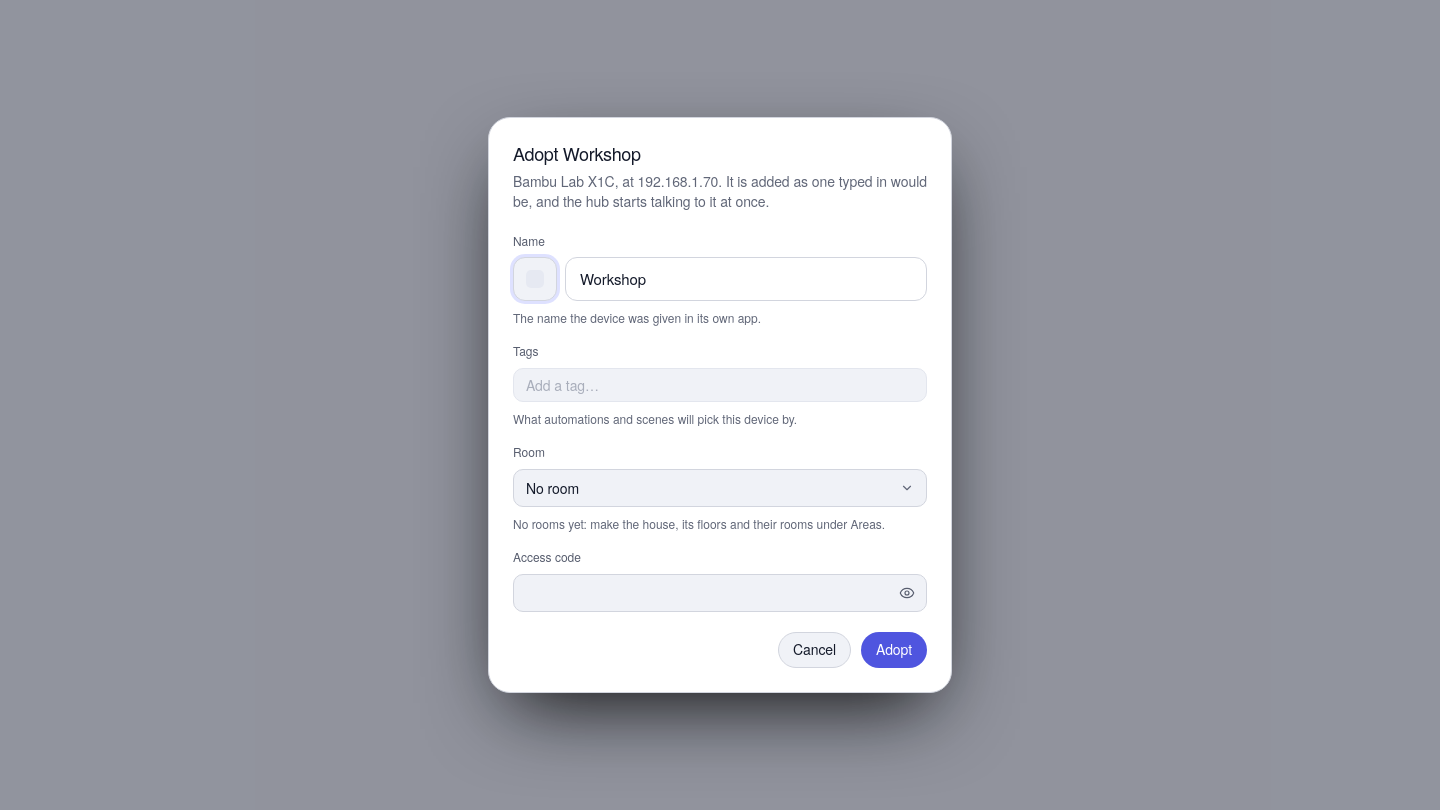
AdoptDialog › shows what the server refused, where the person is
Type "12345678" into the password field labelled "Access code" at (720, 593), box [513,574,927,612]
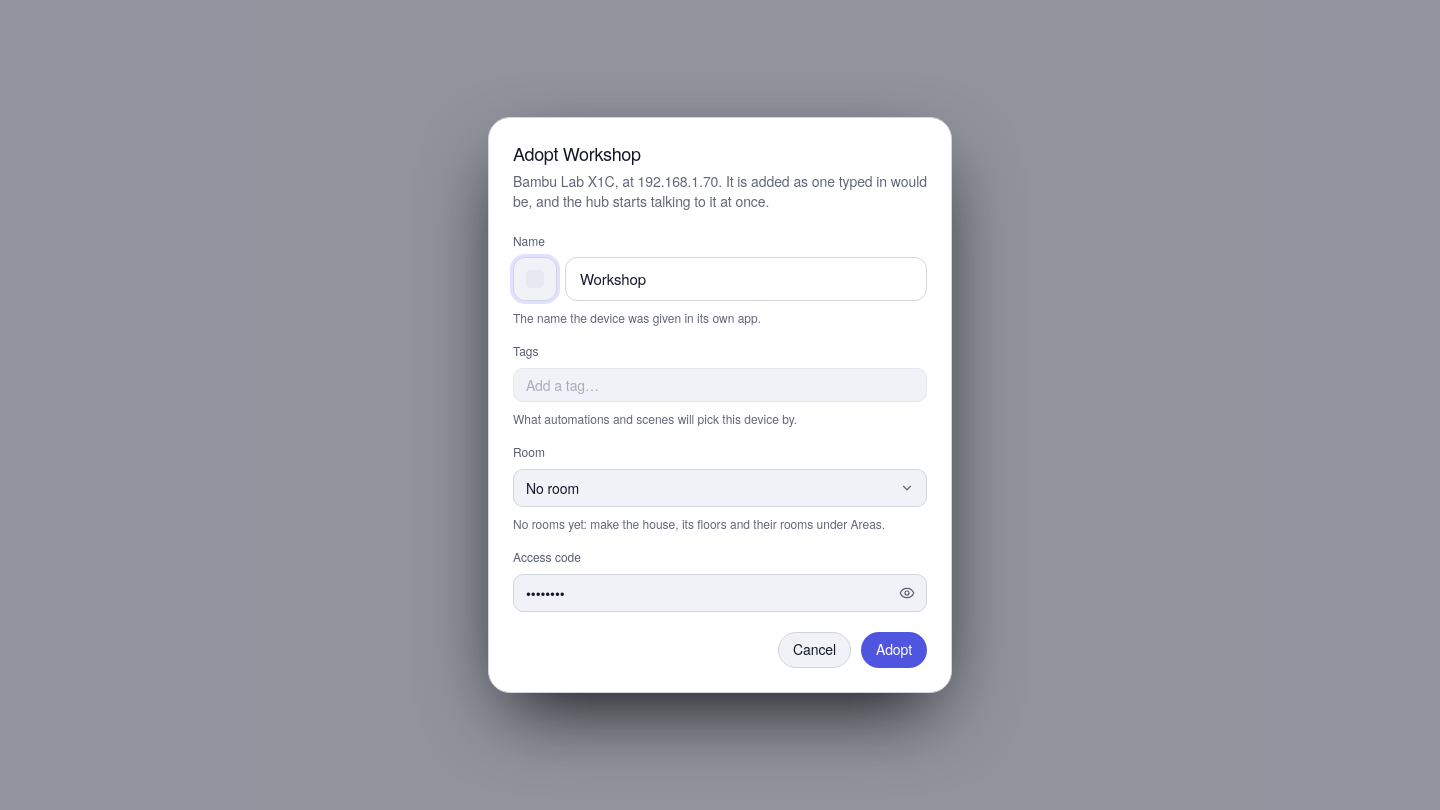
Click the button "Adopt" at (894, 650), box [861,632,927,668]
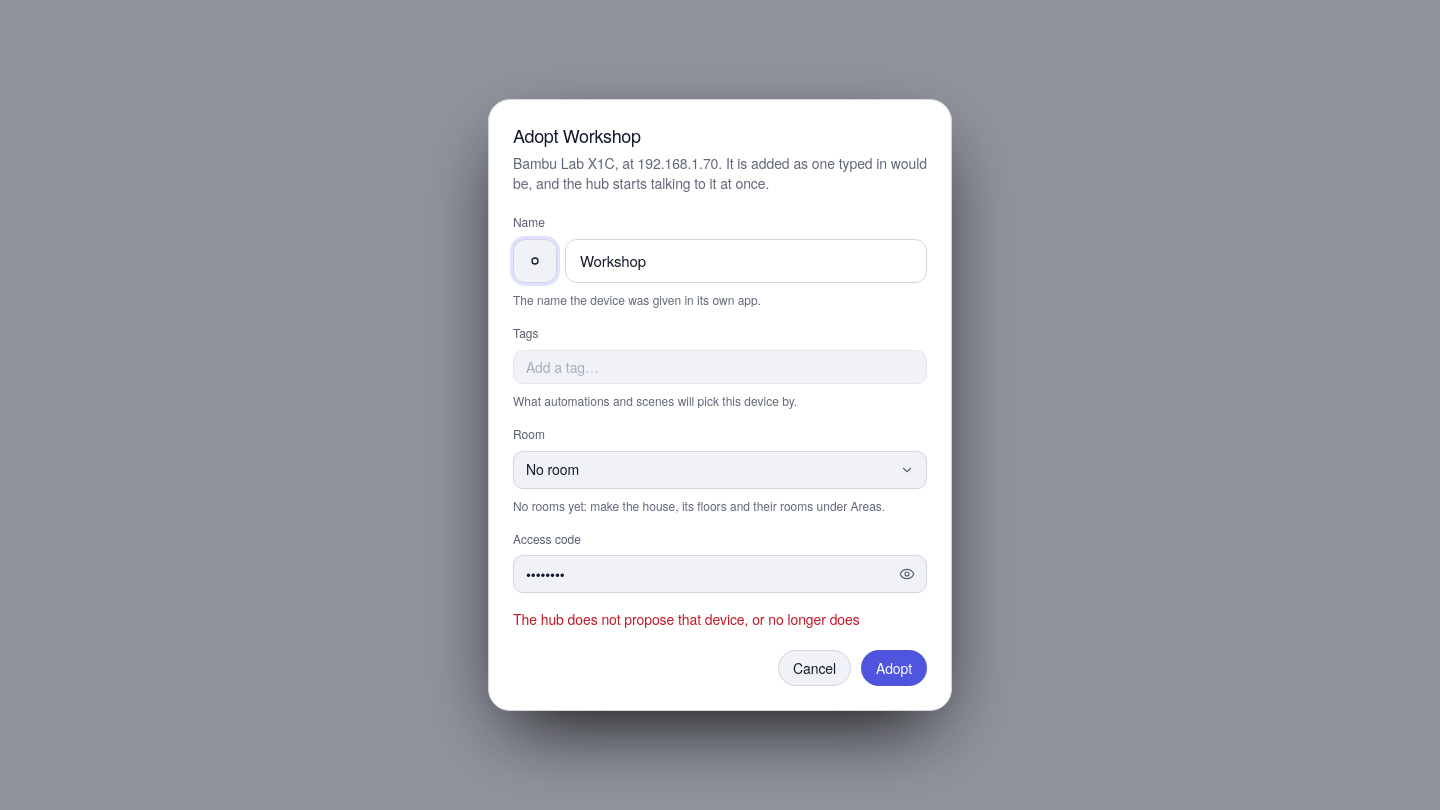
Expected: the message shows "no longer does", [513,609,860,629]
